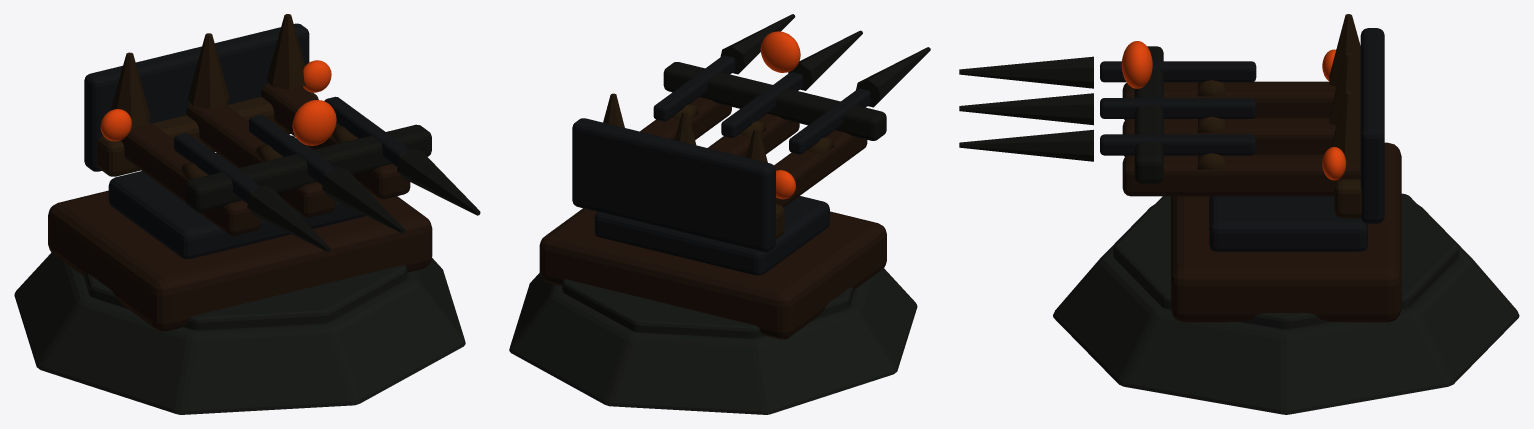
The model's file is TowerKing3_pose.obj.
3 renders of one model, left to right at view 1: azimuth 30°, elevation 25°; view 2: azimuth 150°, elevation 25°; view 3: azimuth 270°, elevation 25°, orthographic. The views are drawn at different scales.
Parts seen in each view (by area): view 1: polished_stone_socket_lower_course, royal_oak_deck, iron_royal_mantle, iron_royal_turntable, polished_stone_socket_upper_course, royal_bow_stock, royal_bow_stock.001, royal_bow_stock.002, bronze_crown_rail, royal_bow_limb, royal_bolt.001, royal_bolt.002 (+12 smaller); view 2: polished_stone_socket_lower_course, royal_oak_deck, iron_royal_mantle, iron_royal_turntable, polished_stone_socket_upper_course, royal_bow_stock, royal_bow_limb, royal_iron_guide.002, royal_iron_guide.001, royal_iron_guide, royal_bow_limb.002, royal_bow_limb.001 (+10 smaller); view 3: polished_stone_socket_lower_course, royal_oak_deck, polished_stone_socket_upper_course, iron_royal_turntable, royal_bow_stock.002, iron_royal_mantle, royal_bow_stock.001, royal_bow_stock, royal_iron_guide.002, royal_iron_guide.001, royal_iron_guide, royal_bolt.001 (+10 smaller).
Boxes of the visible parts, <box> form: polished_stone_socket_lower_course: <box>14,253,465,414</box>; royal_oak_deck: <box>48,145,432,331</box>; iron_royal_mantle: <box>84,23,309,171</box>; iron_royal_turntable: <box>108,135,365,258</box>; polished_stone_socket_upper_course: <box>83,265,407,330</box>; royal_bow_stock: <box>121,121,260,235</box>; royal_bow_stock.001: <box>186,103,335,217</box>; royal_bow_stock.002: <box>261,83,410,199</box>; bronze_crown_rail: <box>97,87,318,176</box>; royal_bow_limb: <box>185,161,278,212</box>; royal_bolt.001: <box>322,167,405,233</box>; royal_bolt.002: <box>397,149,480,215</box>; polished_stone_socket_lower_course: <box>509,268,917,414</box>; royal_oak_deck: <box>539,208,886,339</box>; iron_royal_mantle: <box>572,118,775,252</box>; iron_royal_turntable: <box>594,196,829,275</box>; polished_stone_socket_upper_course: <box>562,279,854,338</box>; royal_bow_stock: <box>774,130,867,207</box>; royal_bow_limb: <box>803,95,886,140</box>; royal_iron_guide.002: <box>653,55,735,121</box>; royal_iron_guide.001: <box>721,72,802,137</box>; royal_iron_guide: <box>789,88,870,154</box>; royal_bow_limb.002: <box>663,62,745,107</box>; royal_bow_limb.001: <box>734,78,812,124</box>; polished_stone_socket_lower_course: <box>1053,204,1519,414</box>; royal_oak_deck: <box>1171,142,1401,322</box>; polished_stone_socket_upper_course: <box>1113,193,1459,329</box>; iron_royal_turntable: <box>1209,196,1367,251</box>; royal_bow_stock.002: <box>1122,154,1360,196</box>; iron_royal_mantle: <box>1360,28,1384,223</box>; royal_bow_stock.001: <box>1122,118,1336,156</box>; royal_bow_stock: <box>1122,81,1336,120</box>; royal_iron_guide.002: <box>1100,134,1256,155</box>; royal_iron_guide.001: <box>1100,98,1256,118</box>; royal_iron_guide: <box>1100,61,1256,82</box>; royal_bolt.001: <box>959,93,1093,125</box>.
Size of the model in its own units: 1.94 by 1.26 by 2.33.
